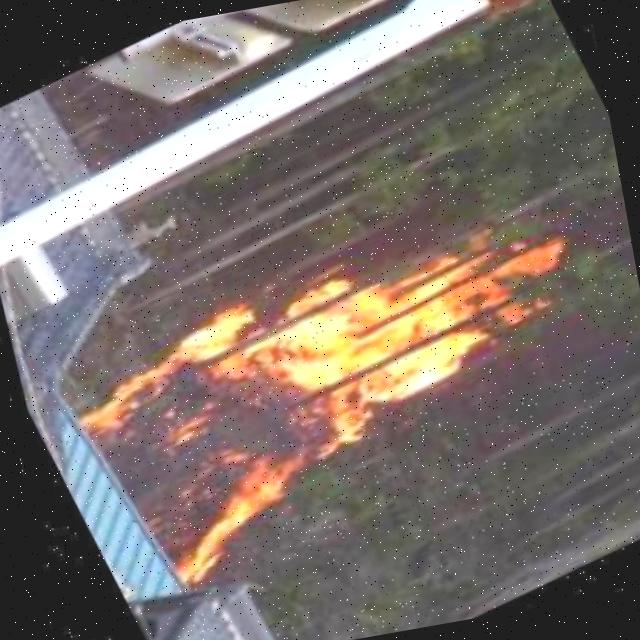fire: (66, 215, 626, 596)
